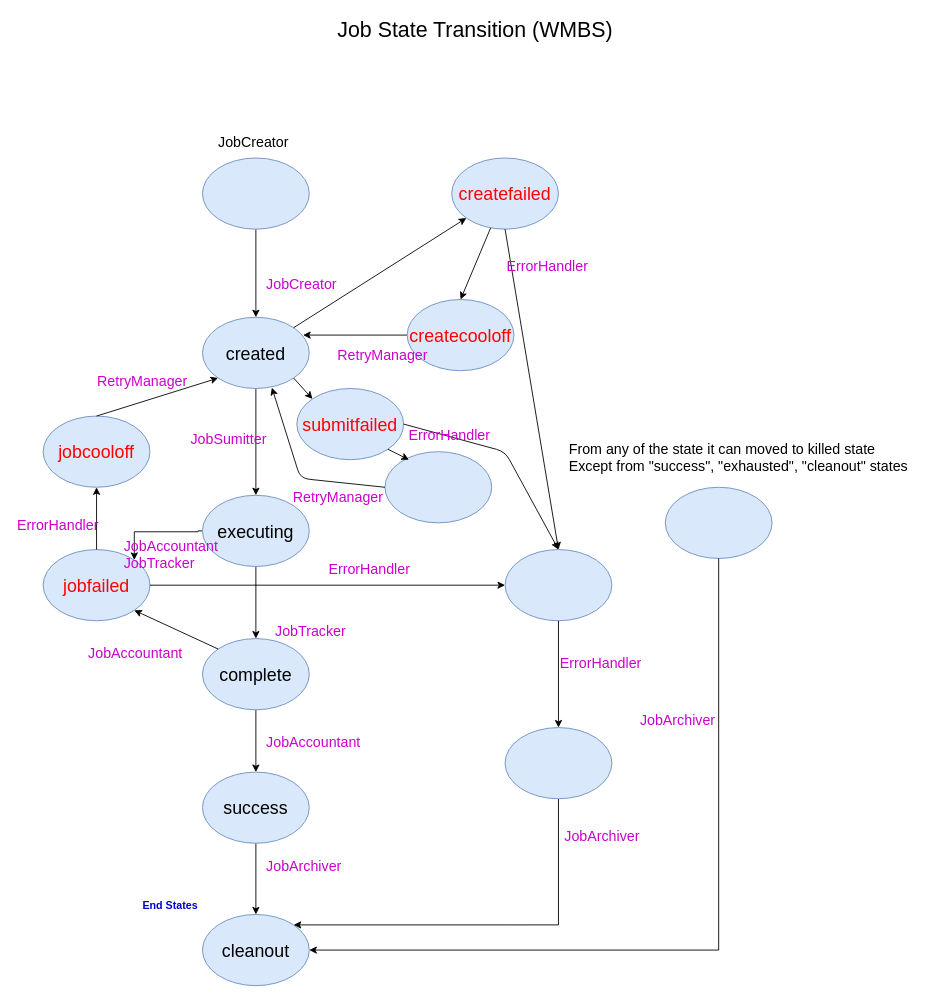
This 938x1001 diagram has some shape labels left out. Here are the shapes that lost their labels. From the top down, the centre of each, then its label:
At [255,193]: "new".
At [438,487]: "submitcooloff".
At [718,522]: "killed".
At [558,585]: "retrydone".
At [558,763]: "exhausted".
